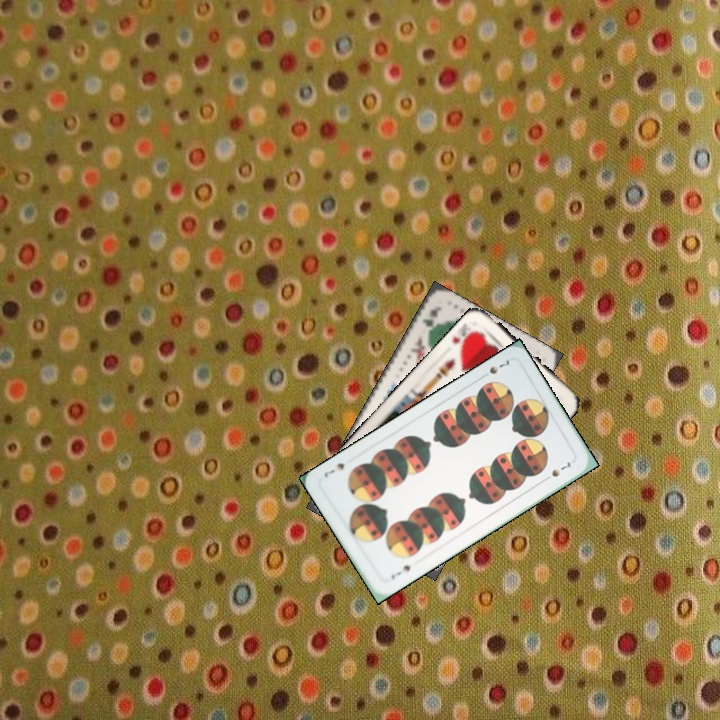GK: (419, 302, 445, 338)
HK: (448, 326, 479, 350)
S7: (477, 355, 513, 381), (387, 561, 413, 582)
